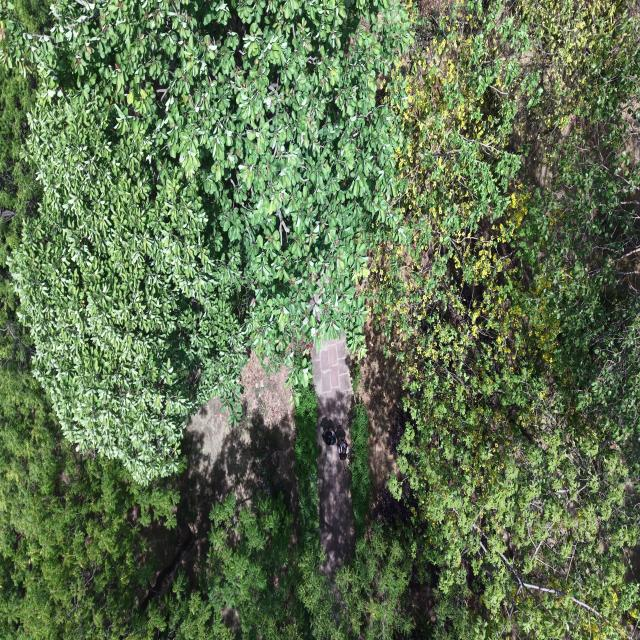DRY_AREA: (141, 354, 297, 607), (146, 353, 297, 596), (147, 353, 297, 597), (148, 354, 296, 597), (155, 354, 297, 590), (180, 353, 297, 538), (185, 352, 295, 502), (355, 320, 411, 525), (312, 337, 354, 576), (358, 322, 403, 513), (312, 338, 352, 400), (625, 542, 639, 583)
PATHWAYS: (312, 337, 354, 577)
VEGETATION_TREE: (0, 0, 639, 639), (0, 5, 406, 638), (0, 0, 411, 482), (370, 2, 639, 637), (0, 370, 411, 639), (0, 65, 176, 639), (0, 371, 345, 639), (146, 387, 414, 639), (0, 369, 177, 639), (147, 496, 308, 639), (295, 385, 344, 639), (0, 65, 39, 367), (336, 524, 415, 639), (295, 386, 318, 546), (350, 403, 371, 535)
